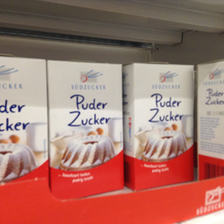tomato_sauce: (46, 59, 124, 200), (122, 61, 195, 190), (1, 55, 50, 187)
